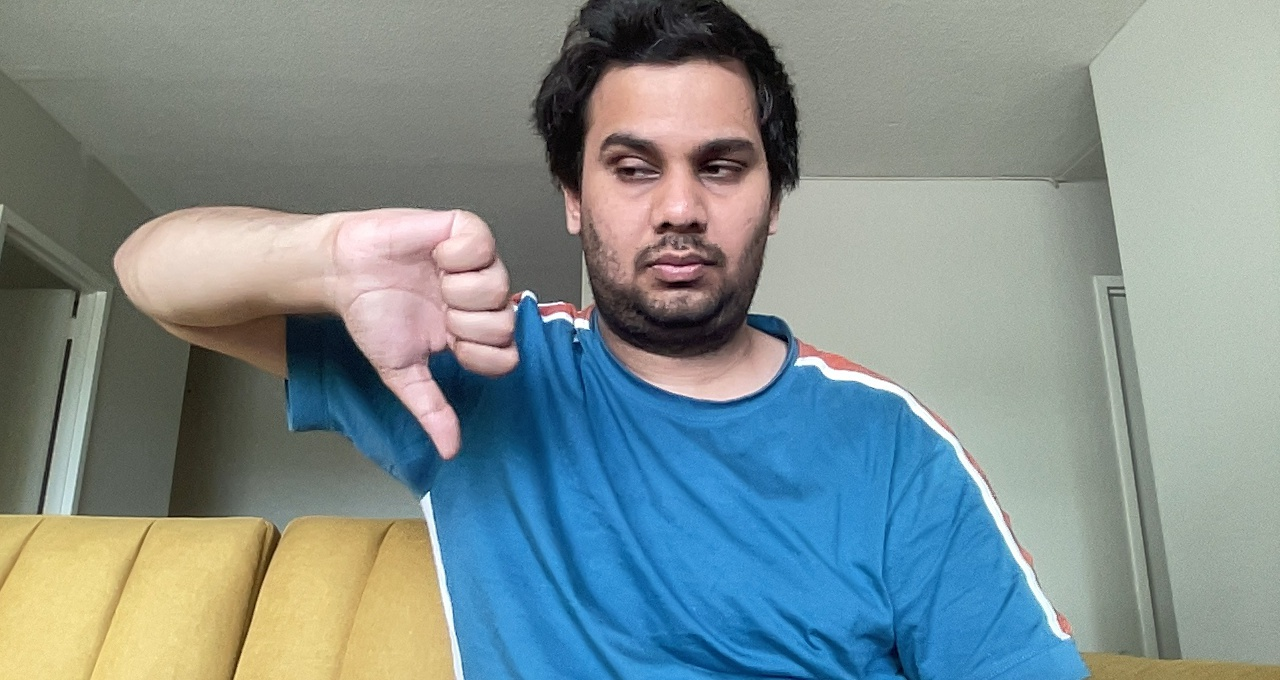thumbsdown: (332, 195, 535, 470)
